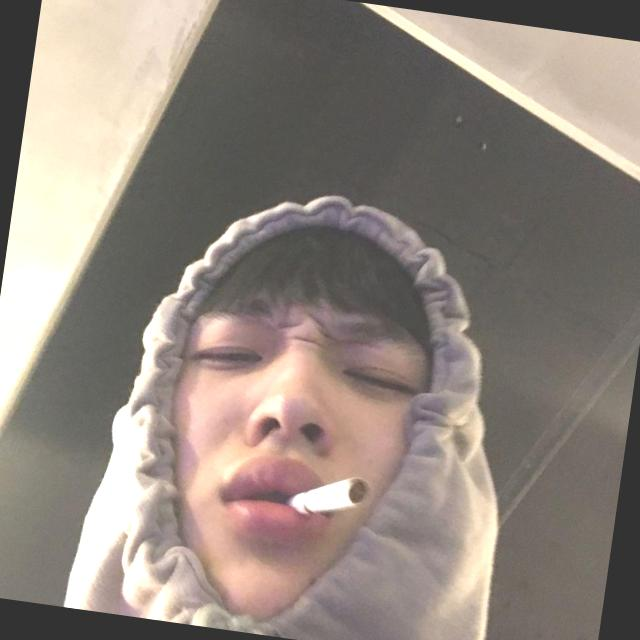smoke: (282, 462, 373, 536)
